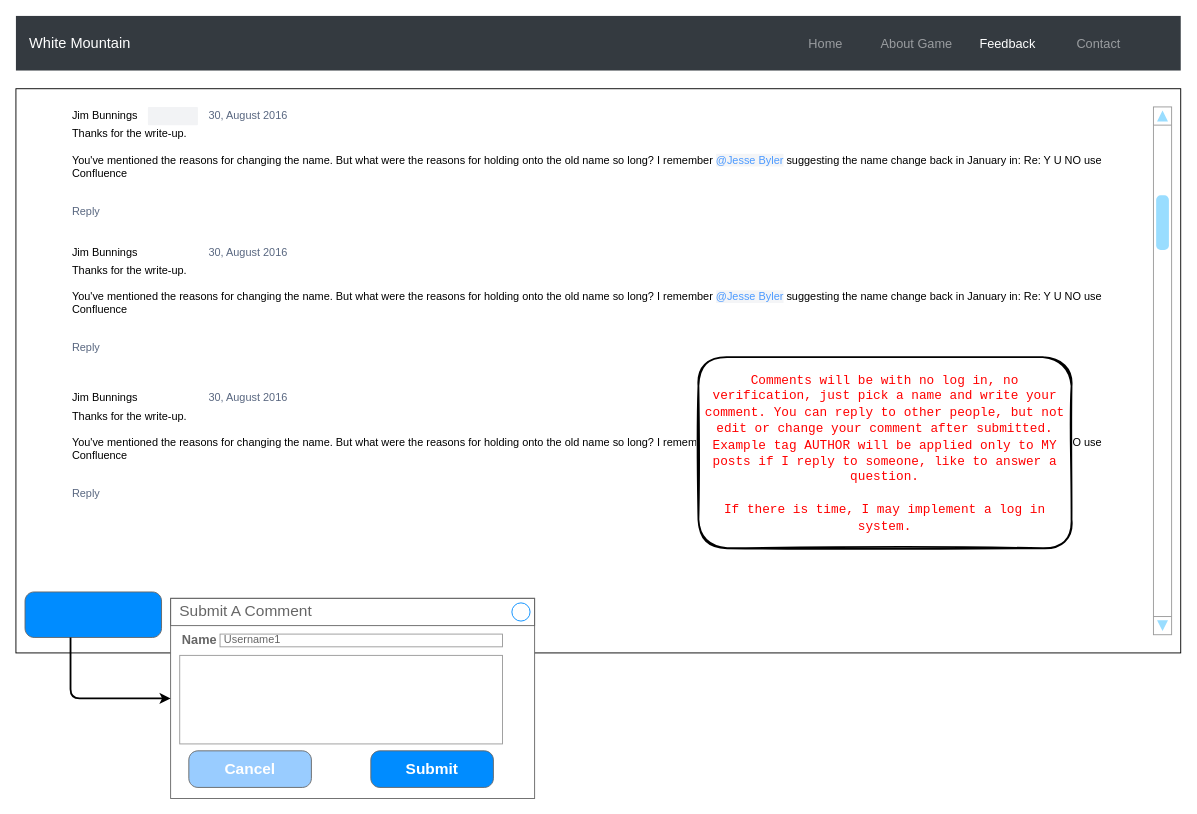
Image size: 1197x814. Some labels were removed from this diagram. The box of each missing label's shape, as (x1, y1, x2, y2) in pixels:
AUTHOR: (147, 106, 197, 125)
Comment blah blah game is cool: (179, 654, 503, 744)
Leave Comment: (24, 591, 162, 637)
